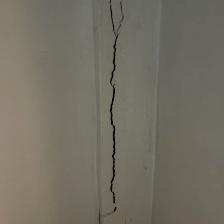Medium: (93, 15, 144, 212)
